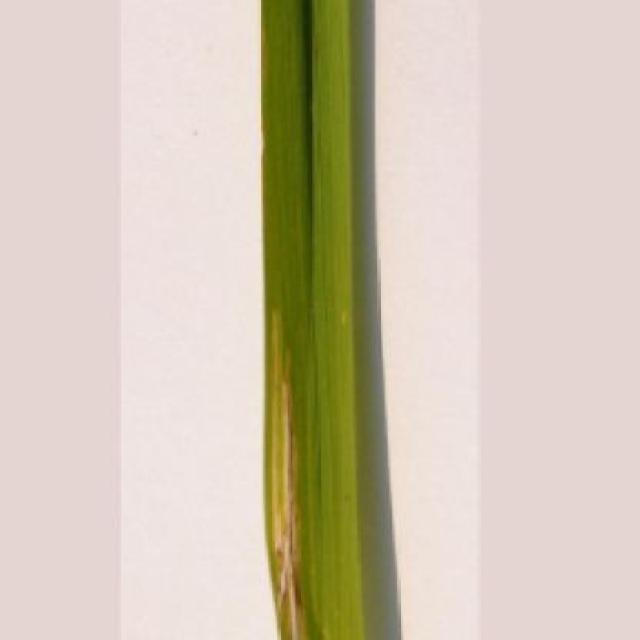Brown_Spot: (251, 0, 367, 640)
